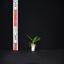leaf: (26, 35, 33, 43), (33, 37, 41, 44), (33, 36, 38, 43), (27, 42, 32, 46), (29, 44, 32, 47), (35, 44, 37, 48)
